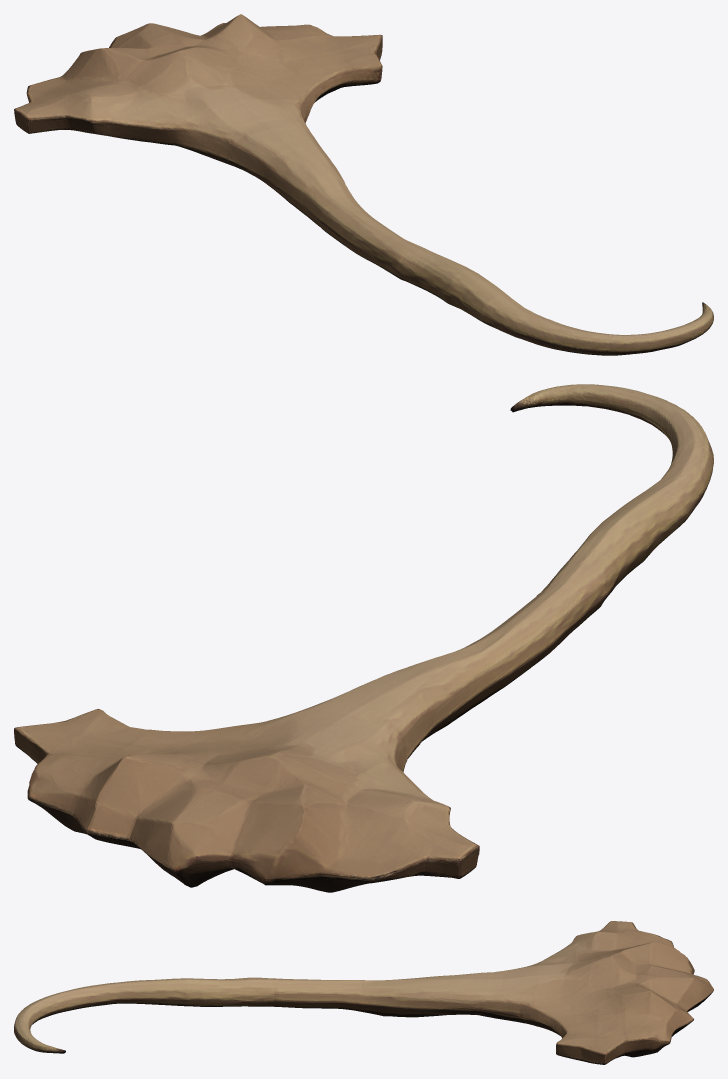
3 views of the same model, one above another, from view 1: azimuth 30°, elevation 25°; view 2: azimuth 150°, elevation 25°; view 3: azimuth 270°, elevation 25° (orthographic). The views are drawn at different scales.
Visible parts, largest first — view 1: world; view 2: world; view 3: world.
Part boxes in pixels (x1=…): world: x1=14, y1=14, x2=713, y2=355; world: x1=14, y1=384, x2=713, y2=892; world: x1=14, y1=921, x2=713, y2=1064.
Size of the model in its own units: 0.4527 by 0.0888 by 0.9998.
Materials: 1 (1 with a texture image).
